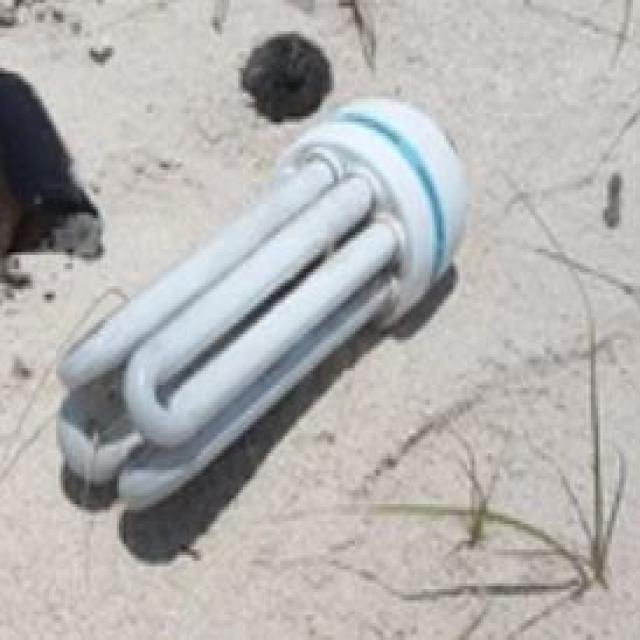electronic: (54, 90, 472, 512)
